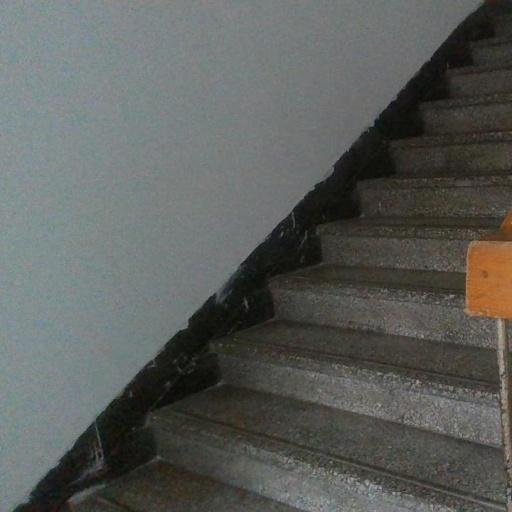stairs: (74, 14, 511, 511)
